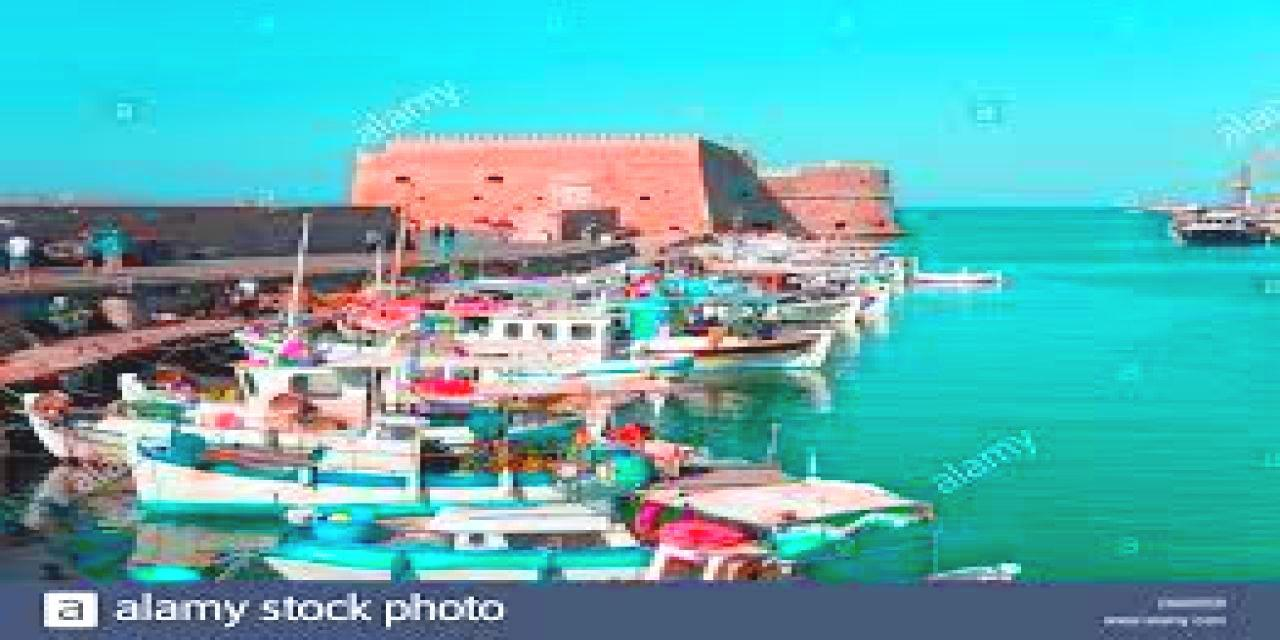Kules: (349, 135, 917, 244)
